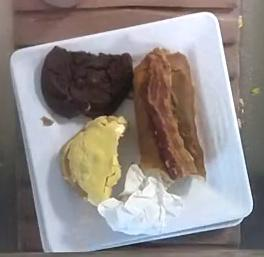bacon: (146, 48, 205, 179)
donut: (41, 46, 133, 205), (134, 48, 206, 179)
